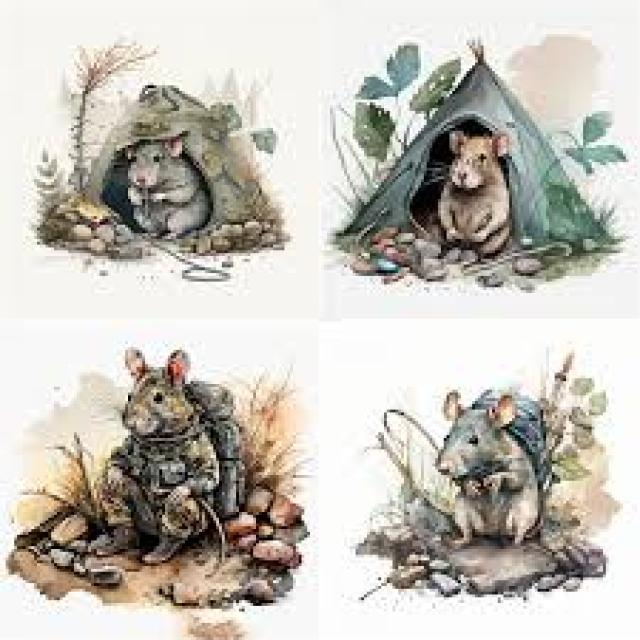rat: (85, 344, 245, 563), (429, 384, 552, 546), (435, 125, 512, 259)
